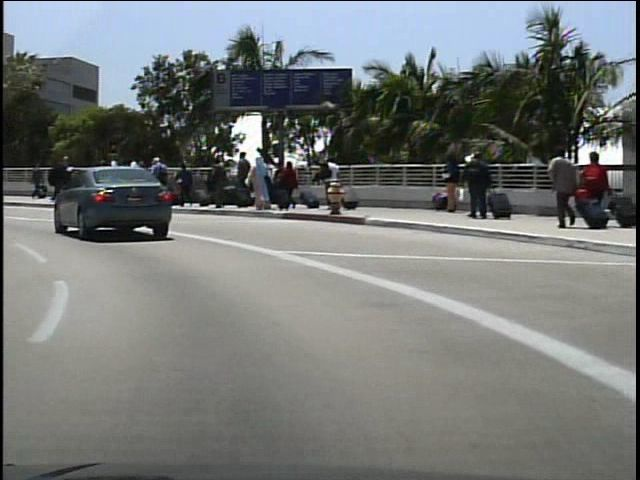person: (544, 147, 578, 228), (577, 148, 609, 226), (459, 150, 488, 219), (50, 153, 76, 205), (317, 152, 342, 204), (45, 153, 72, 196), (27, 160, 46, 201)
